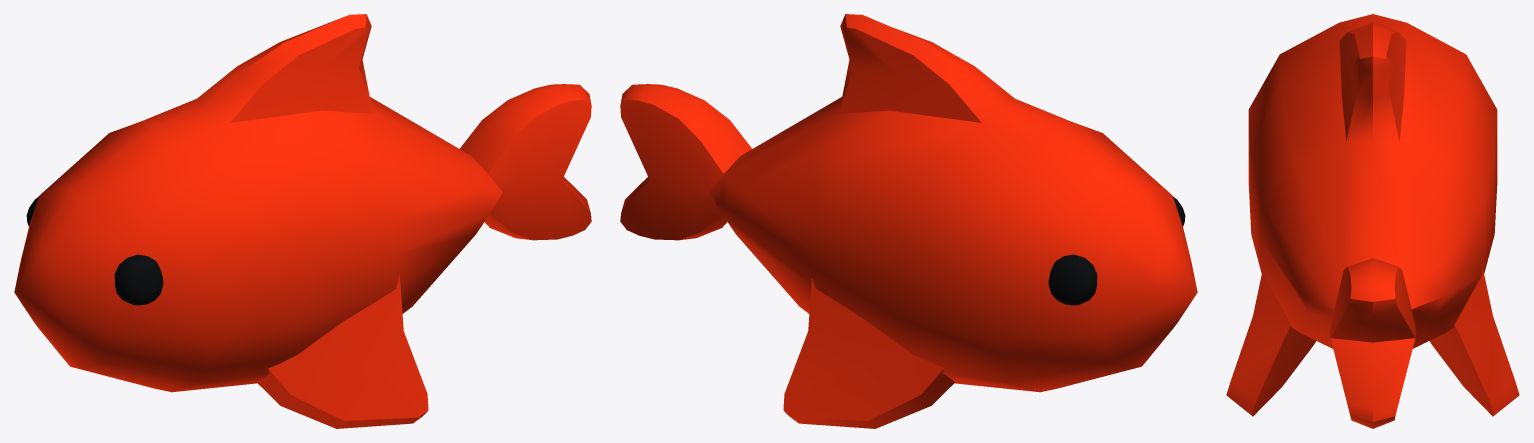
File: fish_small_B.obj
The picture shows the model from 3 angles, left to right: view 1: azimuth 30°, elevation 25°; view 2: azimuth 150°, elevation 25°; view 3: azimuth 270°, elevation 25°; orthographic projection.
Visible parts, largest first — view 1: fish_small_B_Cube.104; view 2: fish_small_B_Cube.104; view 3: fish_small_B_Cube.104.
Part boxes in pixels (box(x1,y1,x2,y2)): fish_small_B_Cube.104: box(14, 14, 591, 428); fish_small_B_Cube.104: box(620, 14, 1197, 428); fish_small_B_Cube.104: box(1226, 14, 1519, 428).
Bounding box in the file's own units: 0.6187 × 0.3774 × 0.2705.
